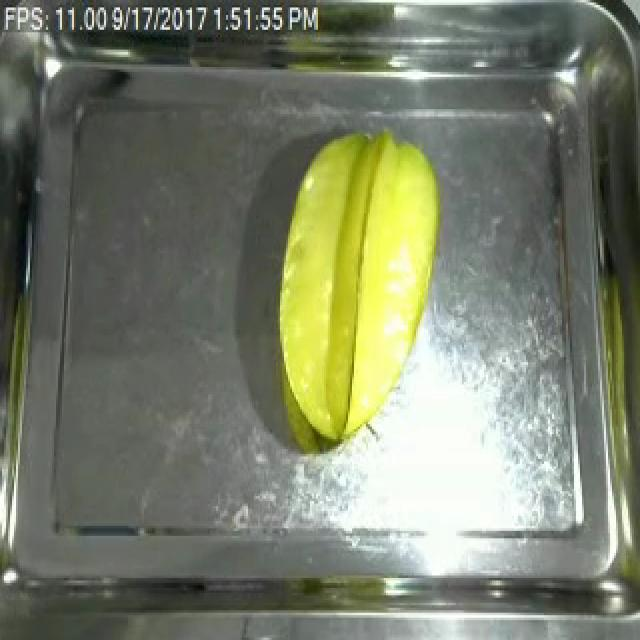fruit: (262, 117, 454, 459)
